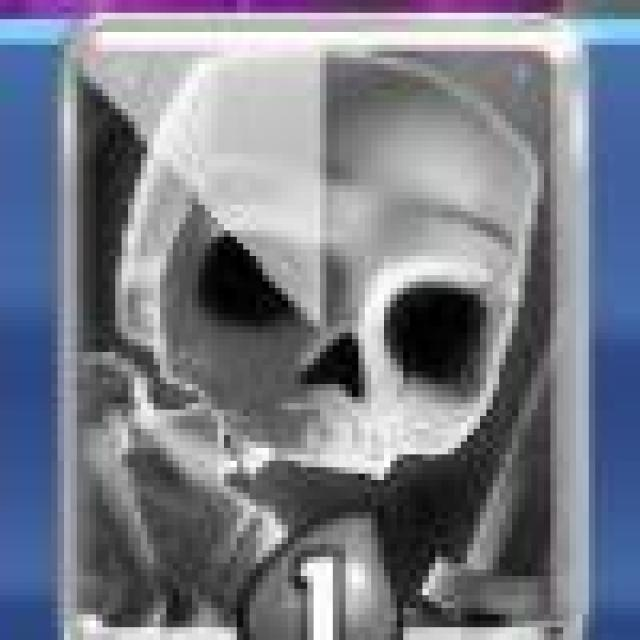Skeletons: (57, 25, 586, 640)
